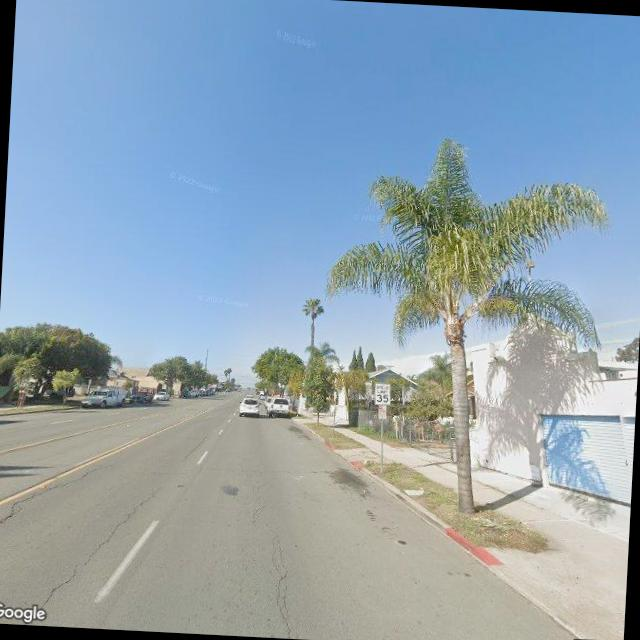pothole: (27, 479, 158, 624), (0, 459, 104, 538), (258, 520, 302, 638)
